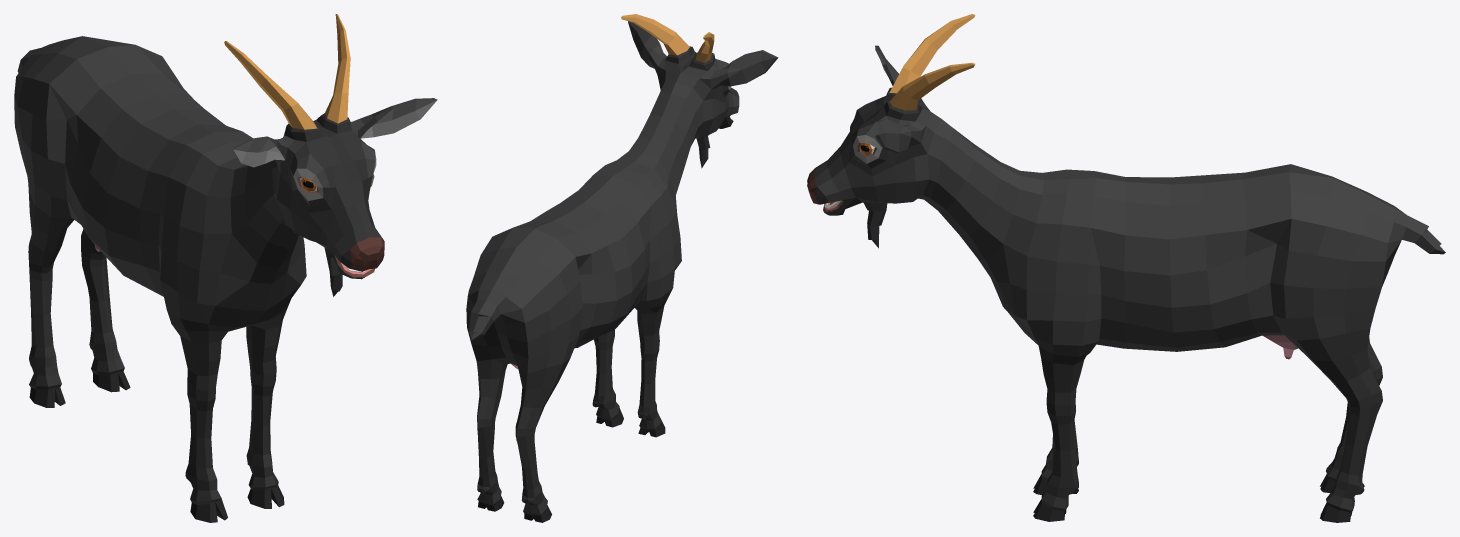
Rendered from LowPoly_Goat_Fem_5.obj.
3 views of the same model, side by side, from view 1: azimuth 30°, elevation 25°; view 2: azimuth 150°, elevation 25°; view 3: azimuth 270°, elevation 25° (orthographic). The views are drawn at different scales.
Parts seen in each view (by area): view 1: Goat_Fem_5_Cube.004; view 2: Goat_Fem_5_Cube.004; view 3: Goat_Fem_5_Cube.004.
Part boxes in pixels (<box>): Goat_Fem_5_Cube.004: <box>14,14,437,522</box>; Goat_Fem_5_Cube.004: <box>466,14,778,522</box>; Goat_Fem_5_Cube.004: <box>807,14,1445,522</box>.
Bounding box in the file's own units: 0.3947 × 0.9443 × 1.18.
